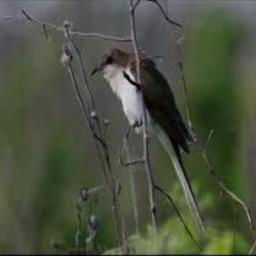Cuckoo: (91, 46, 207, 237)
